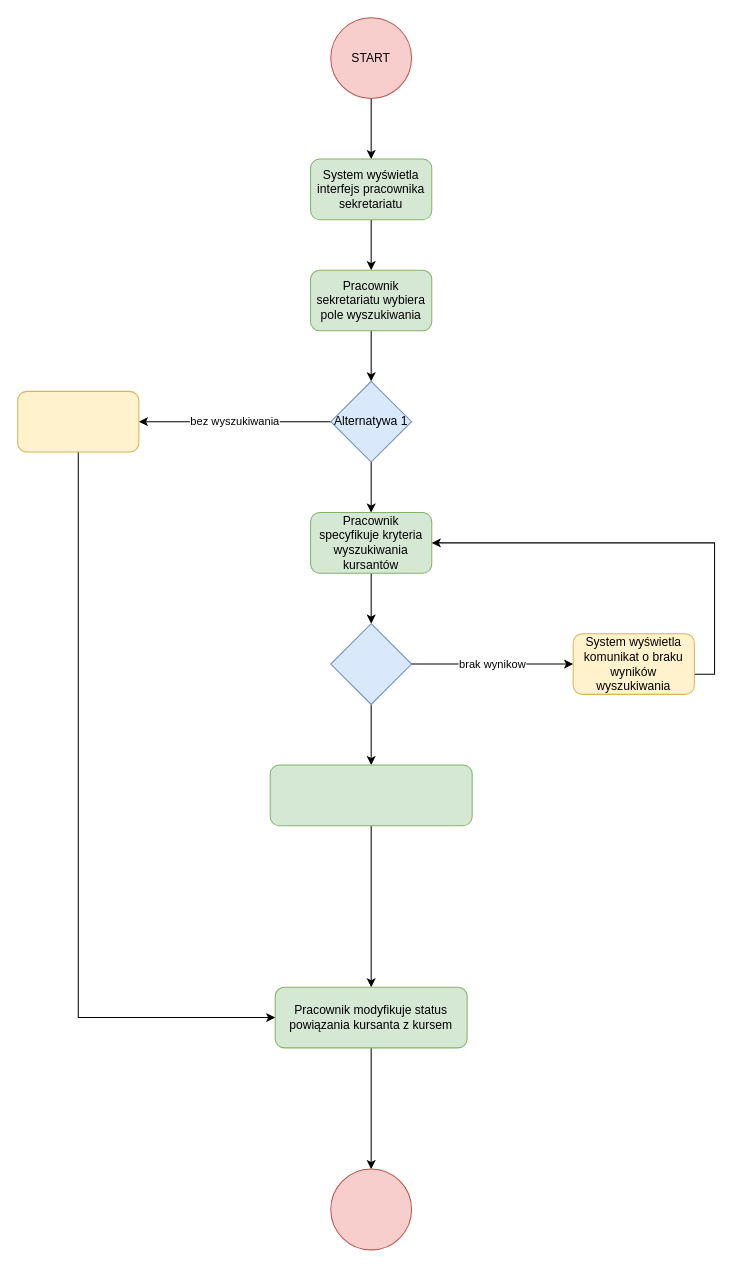
Image size: 740x1268. Some labels were removed from this diagram. The centre of each missing label's shape, as x and y in pixels:
"Alternatywa 2" goes at (371,663).
"END" goes at (371,1209).
"System wyświetla listę kursantów" goes at (78,421).
"System wyświetla listę kursantów zgodnie z wprowadzonymi kryteriami wyszukiwania" goes at (370,795).
